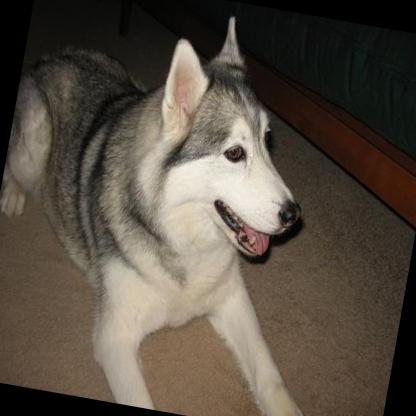Siberian_husky: (0, 0, 383, 416)
